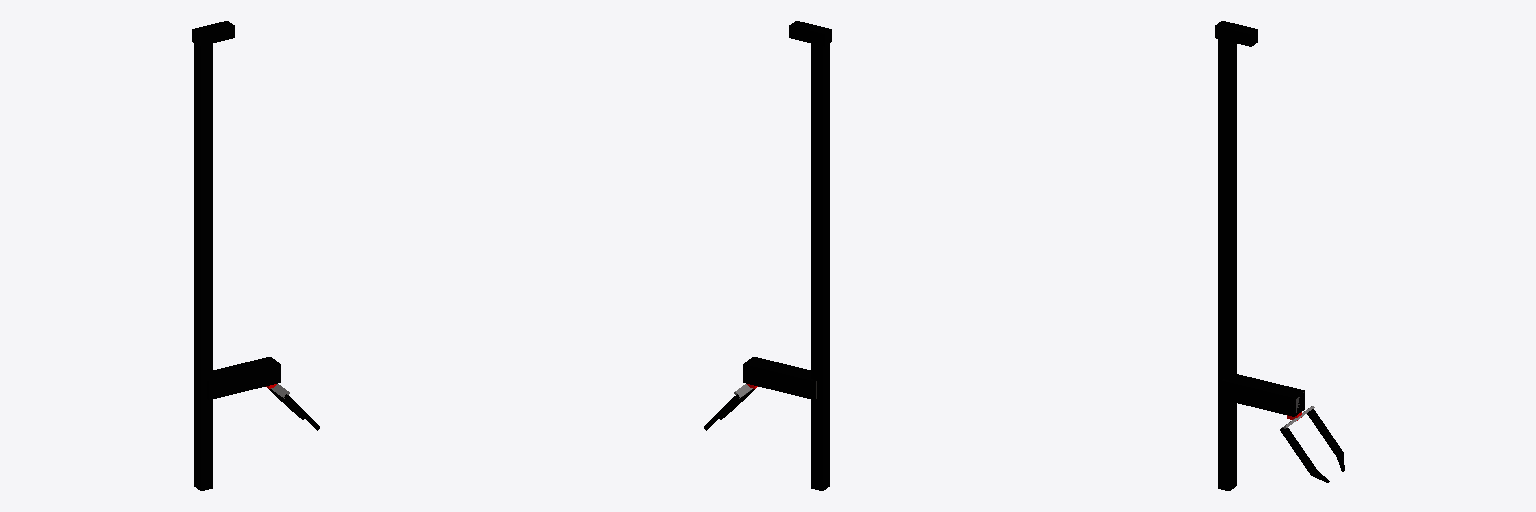
URDF robot description (morpheus):
<?xml version="0.0" ?>
<robot name="morpheus">
  <link name="spine">
    <inertial>
      <origin rpy="0 0 0" xyz="0 0 0"/>
       <mass value=".01"/>
       <inertia ixx="0" ixy="0" ixz="0" iyy="0" iyz="0" izz="0"/>
    </inertial>
    <visual>
      <origin rpy="0 0 0" xyz="0 0 0"/>
      <geometry>
				<box size="0.05 0.05 1.8"/>
      </geometry>
       <material name="black">
        <color rgba="0.01 0.01 0.01 1"/>
      </material>
    </visual>
    <collision>
      <origin rpy="0 0 0" xyz="0 0 0"/>
      <geometry>
	 	   <box size="0.05 0.05 1.8"/>
      </geometry>
    </collision>
  </link>

  <link name="arm1">
    <inertial>
      <origin rpy="0 0 0" xyz="0 0 0"/>
       <mass value=".01"/>
       <inertia ixx="0" ixy="0" ixz="0" iyy="0" iyz="0" izz="0"/>
    </inertial>
    <visual>
      <origin rpy="0 1.57 0" xyz="0.15 0 -0.5"/>
      <geometry>
        <box size="0.075 0.075 0.3"/>
      </geometry>
       <material name="black">
        <color rgba="0.01 0.01 0.01 1"/>
      </material>
    </visual>
    <collision>
      <origin rpy="0 1.57 0" xyz="0.15 0 -0.5"/>
      <geometry>
       <box size="0.05 0.05 0.3"/>
      </geometry>
    </collision>
  </link>

  <joint name="spine_to_arm1" type="prismatic">
    <parent link="spine"/>
    <child link="arm1"/>
    <origin rpy="0 0 0" xyz="0 0 0"/>
    <axis xyz="0 0 1"/>
    <limit lower="0.0" upper="1.3" effort="10" velocity="0.25"/>
  </joint>

  <link name="head">
    <inertial>
      <origin rpy="0 0 0" xyz="0 0 0"/>
       <mass value=".01"/>
       <inertia ixx="0" ixy="0" ixz="0" iyy="0" iyz="0" izz="0"/>
    </inertial>
    <visual>
      <origin rpy="0 1.57 0" xyz="0.04 0 0.9"/>
      <geometry>
        <box size="0.05 0.05 0.15"/>
      </geometry>
       <material name="black">
        <color rgba="0.01 0.01 0.01 1"/>
      </material>
    </visual>
    <collision>
      <origin rpy="0 1.57 0" xyz="0.04 0 0.9"/>
      <geometry>
       <box size="0.05 0.05 0.15"/>
      </geometry>
    </collision>
  </link>

  <joint name="spine_to_head" type="fixed">
    <parent link="spine"/>
    <child link="head"/>
  </joint>


  <link name="arm2">
    <inertial>
      <origin rpy="0 0 0" xyz="0 0 0"/>
       <mass value=".01"/>
       <inertia ixx="0" ixy="0" ixz="0" iyy="0" iyz="0" izz="0"/>
    </inertial>
    <visual>
      <origin rpy="0 1.57 0" xyz="0.15 0 -0.5"/>
      <geometry>
        <box size="0.07 0.07 0.3"/>
      </geometry>
       <material name="grey1">
        <color rgba="0.23 0.22 0.21 1"/>
        </material>
    </visual>
    <collision>
      <origin rpy="0 1.57 0" xyz="0.15 0 -0.5"/>
      <geometry>
       <box size="0.07 0.07 0.3"/>
      </geometry>
    </collision>
  </link>

  <joint name="arm1_to_arm2" type="prismatic">
    <parent link="arm1"/>
    <child link="arm2"/>
    <origin rpy="0 0 0" xyz="0 0 0"/>
    <axis xyz="1 0 0"/>
    <limit lower="0.0" upper="0.25" effort="10" velocity="0.25"/>
  </joint>

  <link name="arm3">
    <inertial>
      <origin rpy="0 0 0" xyz="0 0 0"/>
       <mass value=".01"/>
       <inertia ixx="0" ixy="0" ixz="0" iyy="0" iyz="0" izz="0"/>
    </inertial>
    <visual>
      <origin rpy="0 1.57 0" xyz="0.15 0 -0.5"/>
      <geometry>
        <box size="0.06 0.06 0.3"/>
      </geometry>
       <material name="grey2">
        <color rgba="0.32 0.31 0.31 1"/>
      </material>
    </visual>
    <collision>
      <origin rpy="0 1.57 0" xyz="0.15 0 -0.5"/>
      <geometry>
       <box size="0.06 0.06 0.3"/>
      </geometry>
    </collision>
  </link>

  <joint name="arm2_to_arm3" type="prismatic">
    <parent link="arm2"/>
    <child link="arm3"/>
    <origin rpy="0 0 0" xyz="0 0 0"/>
    <axis xyz="1 0 0"/>
    <limit lower="0.0" upper="0.25" effort="10" velocity="0.25"/>
  </joint>

  <link name="arm4">
    <inertial>
      <origin rpy="0 0 0" xyz="0 0 0"/>
       <mass value=".01"/>
       <inertia ixx="0" ixy="0" ixz="0" iyy="0" iyz="0" izz="0"/>
    </inertial>
    <visual>
      <origin rpy="0 1.57 0" xyz="0.15 0 -0.5"/>
      <geometry>
        <box size="0.05 0.05 0.3"/>
      </geometry>
       <material name="grey3">
        <color rgba="0.49 0.48 0.48 1"/>
      </material>
    </visual>
    <collision>
      <origin rpy="0 1.57 0" xyz="0.15 0 -0.5"/>
      <geometry>
       <box size="0.05 0.05 0.3"/>
      </geometry>
    </collision>
  </link>

  <joint name="arm3_to_arm4" type="prismatic">
    <parent link="arm3"/>
    <child link="arm4"/>
    <origin rpy="0 0 0" xyz="0 0 0"/>
    <axis xyz="1 0 0"/>
    <limit lower="0.0" upper="0.25" effort="10" velocity="0.25"/>
  </joint>

  <link name="arm5">
    <inertial>
      <origin rpy="0 0 0" xyz="0 0 0"/>
       <mass value=".01"/>
       <inertia ixx="0" ixy="0" ixz="0" iyy="0" iyz="0" izz="0"/>
    </inertial>
    <visual>
      <origin rpy="0 1.57 0" xyz="0.15 0 -0.5"/>
      <geometry>
        <box size="0.04 0.04 0.3"/>
      </geometry>
       <material name="grey4">
        <color rgba="0.74 0.73 0.73 1"/>
      </material>
    </visual>
    <collision>
      <origin rpy="0 1.57 0" xyz="0.15 0 -0.5"/>
      <geometry>
       <box size="0.04 0.04 0.3"/>
      </geometry>
    </collision>
  </link>

  <joint name="arm4_to_arm5" type="prismatic">
    <parent link="arm4"/>
    <child link="arm5"/>
    <origin rpy="0 0 0" xyz="0 0 0"/>
    <axis xyz="1 0 0"/>
    <limit lower="0.0" upper="0.25" effort="10" velocity="0.25"/>
  </joint>

  <link name="wrist">
    <inertial>
      <origin rpy="0 0 0" xyz="0 0 0.02"/>
       <mass value=".01"/>
       <inertia ixx="0" ixy="0" ixz="0" iyy="0" iyz="0" izz="0"/>
    </inertial>
    <visual>
      <origin rpy="0 0 0" xyz="0.28 0 -0.54"/>
      <geometry>
        <box size="0.04 0.04 0.04"/>
      </geometry>
       <material name="red">
        <color rgba="1 0 0 1"/>
      </material>
    </visual>
    <collision>
      <origin rpy="0 0 0" xyz="0.28 0 -0.54"/>
      <geometry>
       <box size="0.07 0.07 0.07"/>
      </geometry>
    </collision>
  </link>

  <joint name="arm5_to_wrist" type="revolute">
    <parent link="arm5"/>
    <child link="wrist"/>
    <!-- <origin rpy="0 0 0" xyz="0 0 0"/> -->
    <axis xyz="0 0 1"/>
    <limit lower="-0.25" upper="0.25" effort="1" velocity="10"/>
  </joint>

  <link name="gripper_base">
    <inertial>
      <origin rpy="0 0 0" xyz="0 0 0"/>
       <mass value=".01"/>
       <inertia ixx="0" ixy="0" ixz="0" iyy="0" iyz="0" izz="0"/>
    </inertial>
    <visual>
      <origin rpy="0 0.86 0" xyz="0.29 0 -0.56"/>
      <geometry>
        <box size="0.01 0.2 0.03"/>
      </geometry>
       <material name="grey3"/>
    </visual>
    <collision>
      <origin rpy="0 0.86 0" xyz="0.29 0 -0.56"/>
      <geometry>
       <box size="0.01 0.2 0.03"/>
      </geometry>
    </collision>
  </link>

  <joint name="wrist_to_gripper_base" type="fixed">
    <parent link="wrist"/>
    <child link="gripper_base"/>
  </joint>

<link name="left_gripper">
    <inertial>
      <origin rpy="0 0 0" xyz="0 0 0"/>
       <mass value=".01"/>
       <inertia ixx="0" ixy="0" ixz="0" iyy="0" iyz="0" izz="0"/>
    </inertial>
    <visual>
      <origin rpy="-0.86 0 -1.57" xyz="0.32 0.06 -0.613"/>
      <geometry>
        <mesh filename="left_gripper.stl" scale="1 1 1"/>
      </geometry>
       <material name="black"/>
    </visual>
    <collision>
      <origin rpy="-0.86 0 -1.57" xyz="0.32 0.06 -0.613"/>
      <geometry>
       <mesh filename="left_gripper.stl" scale="1 1 1"/>
      </geometry>
    </collision>
  </link>

  <joint name="gripper_base_to_left_gripper" type="fixed">
    <parent link="gripper_base"/>
    <child link="left_gripper"/>
  </joint>

<link name="right_gripper">
    <inertial>
      <origin rpy="0 0 0" xyz="0 0 0"/>
       <mass value=".01"/>
       <inertia ixx="0" ixy="0" ixz="0" iyy="0" iyz="0" izz="0"/>
    </inertial>
    <visual>
      <origin rpy="-0.86 0 -1.57" xyz="0.32 -0.06 -0.613"/>
      <geometry>
        <mesh filename="right_gripper.stl" scale="1 1 1"/>
      </geometry>
       <material name="black"/>
    </visual>
    <collision>
      <origin rpy="-0.86 0 -1.57" xyz="0.32 -0.06 -0.613"/>
      <geometry>
       <mesh filename="right_gripper.stl" scale="1 1 1"/>
      </geometry>
    </collision>
  </link>

  <joint name="gripper_base_to_right_gripper" type="fixed">
    <parent link="gripper_base"/>
    <child link="right_gripper"/>
  </joint>




</robot>

--- Facts derived from the render (not from the file) ---
3 views of the same robot in one strip: view 1: azimuth 30°, elevation 25°; view 2: azimuth 150°, elevation 25°; view 3: azimuth 330°, elevation 25° (orthographic).
Robot: morpheus — 11 links, 10 joints (1 revolute, 5 prismatic, 4 fixed); root link spine; default pose: every joint at zero.
Visible links, largest first — view 1: spine, arm1, head; view 2: spine, arm1, head; view 3: spine, arm1, head, right_gripper, left_gripper.
Link boxes in pixels (bbox=[...]): spine: bbox=[194, 37, 212, 490]; arm1: bbox=[207, 357, 280, 399]; head: bbox=[192, 21, 234, 46]; spine: bbox=[811, 37, 829, 490]; arm1: bbox=[743, 357, 816, 399]; head: bbox=[789, 21, 831, 46]; spine: bbox=[1218, 33, 1236, 490]; arm1: bbox=[1222, 374, 1304, 416]; head: bbox=[1215, 21, 1257, 46]; right_gripper: bbox=[1280, 428, 1329, 482]; left_gripper: bbox=[1307, 409, 1344, 471].
Size in the robot's own frame: 0.4914 by 0.2129 by 1.83 metres.
2 mesh visuals loaded from 2 distinct referenced files (2 binary STL).
